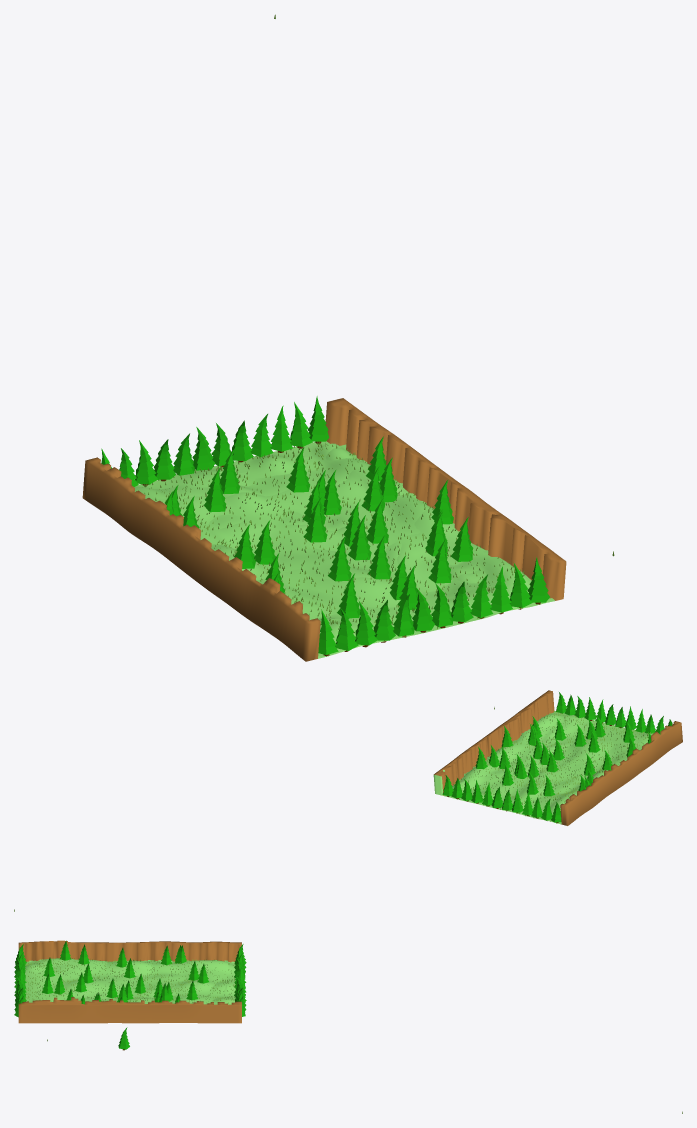
Rendered from OneMap_2.fbx.
3 views of the same model, one above another, from view 1: azimuth 30°, elevation 25°; view 2: azimuth 150°, elevation 25°; view 3: azimuth 270°, elevation 25° (orthographic). The views are drawn at different scales.
Visible parts, largest first — view 1: Plane.005, Plane.008, Cylinder.001, Cylinder.003; view 2: Plane.005, Plane.008, Cylinder.003, Cylinder.001; view 3: Plane.005, Plane.008, Cylinder.001, Cylinder.003.
Boxes of the visible parts, <box> form: Plane.005: <box>82,398,566,661</box>; Plane.008: <box>134,443,514,621</box>; Cylinder.001: <box>318,557,549,656</box>; Cylinder.003: <box>101,396,329,486</box>; Plane.005: <box>433,690,682,825</box>; Plane.008: <box>452,719,647,810</box>; Cylinder.003: <box>442,775,561,823</box>; Cylinder.001: <box>556,692,672,734</box>; Plane.005: <box>18,940,241,1023</box>; Plane.008: <box>45,959,228,1004</box>; Cylinder.001: <box>14,944,26,1017</box>; Cylinder.003: <box>234,944,246,1016</box>.
Bounding box in the file's own units: 984 × 220 × 1798.
